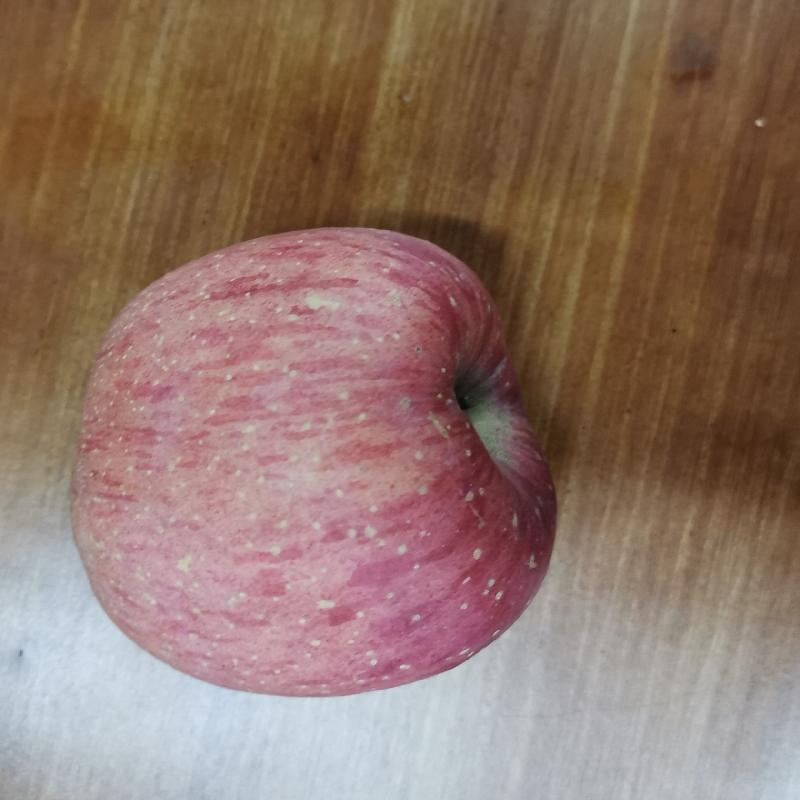apples: (64, 222, 583, 699)
